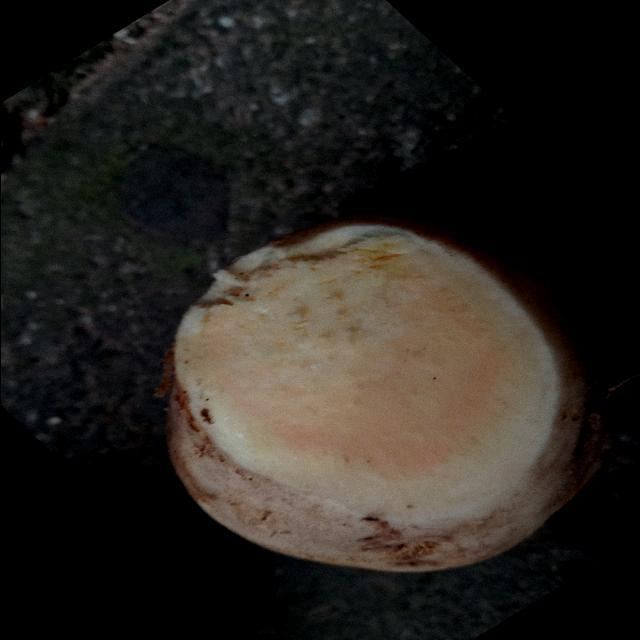Healthy Sweet Potato: (173, 225, 558, 522)
